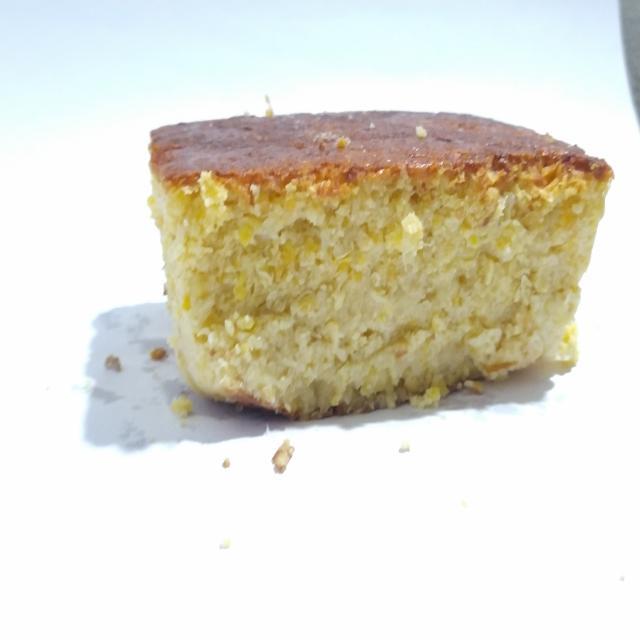Food: (131, 92, 618, 439)
